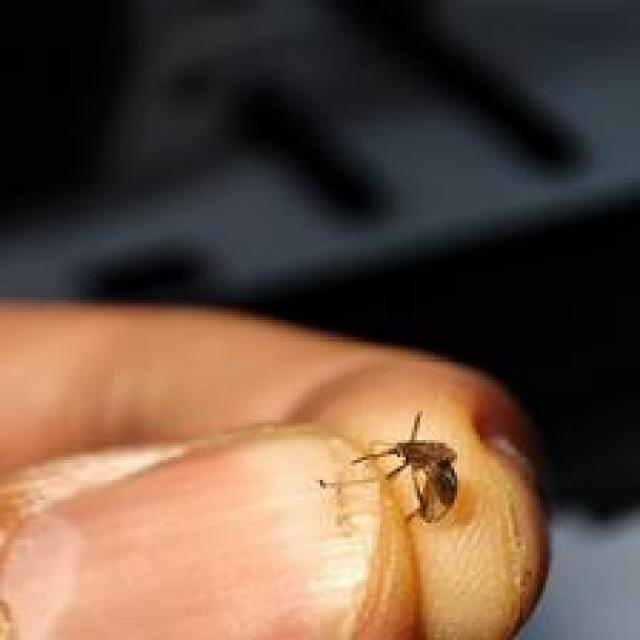Culex: (351, 408, 460, 526)
